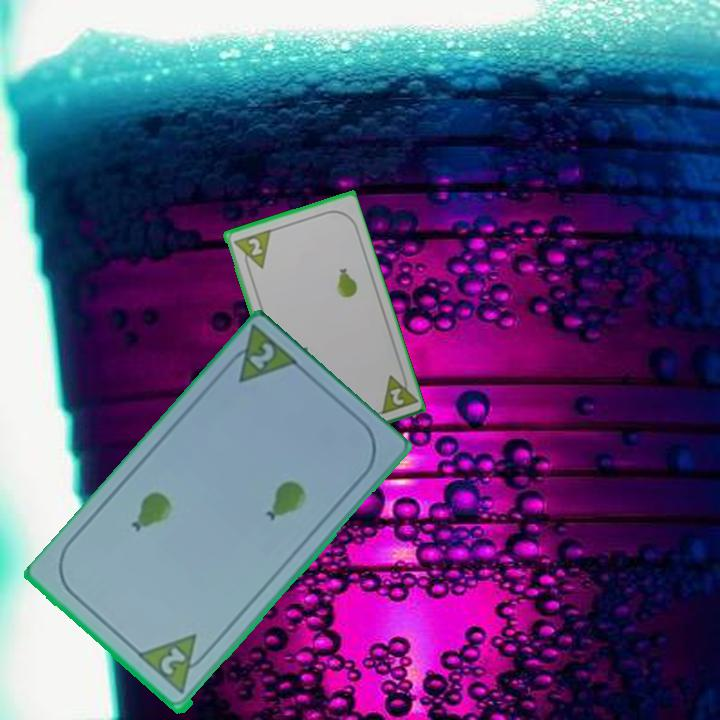2p: (218, 324, 303, 387), (136, 630, 214, 698), (229, 226, 273, 275), (386, 384, 407, 408)
